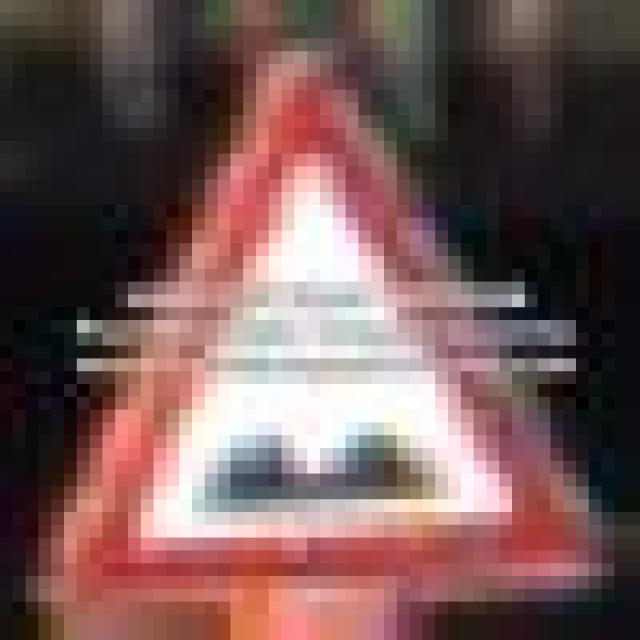horn_prohibited: (38, 38, 628, 576)
